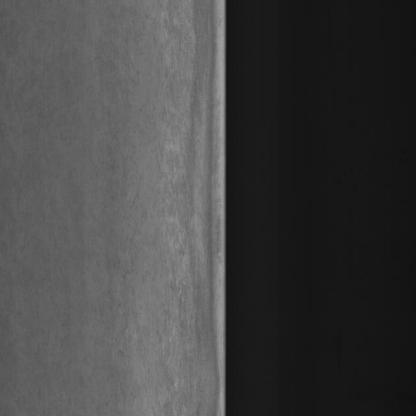silk_spot: (138, 30, 206, 403)
